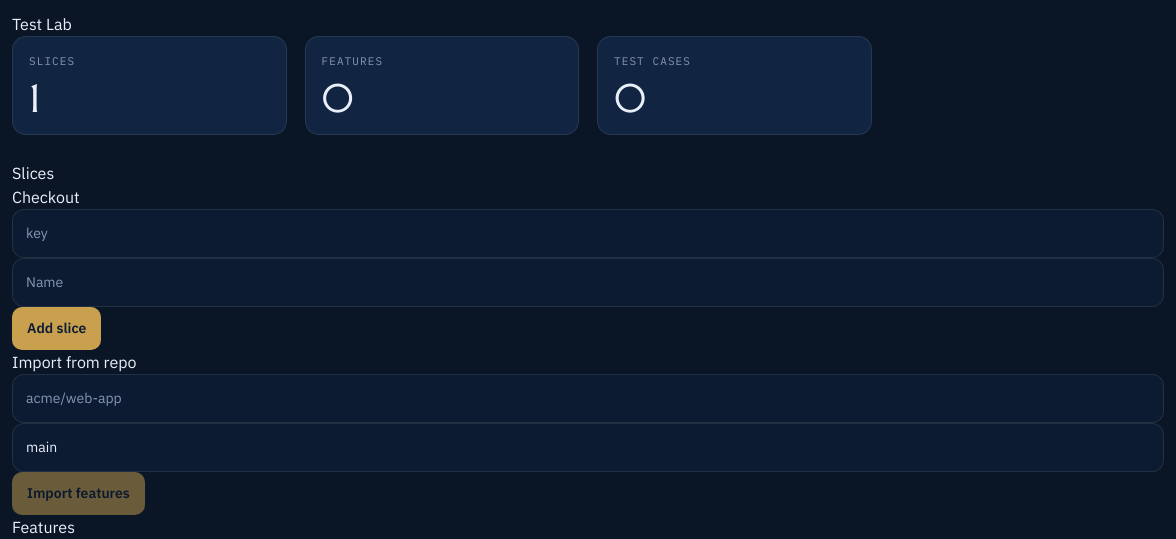
Scenario: TestLabScreen › adds a slice
Expected: the list item "Checkout" is shown, [12,186,80,206]
Type "regression" into the field named "Slice key".
click(588, 233); type("regression")  # box [12,208,1164,258]
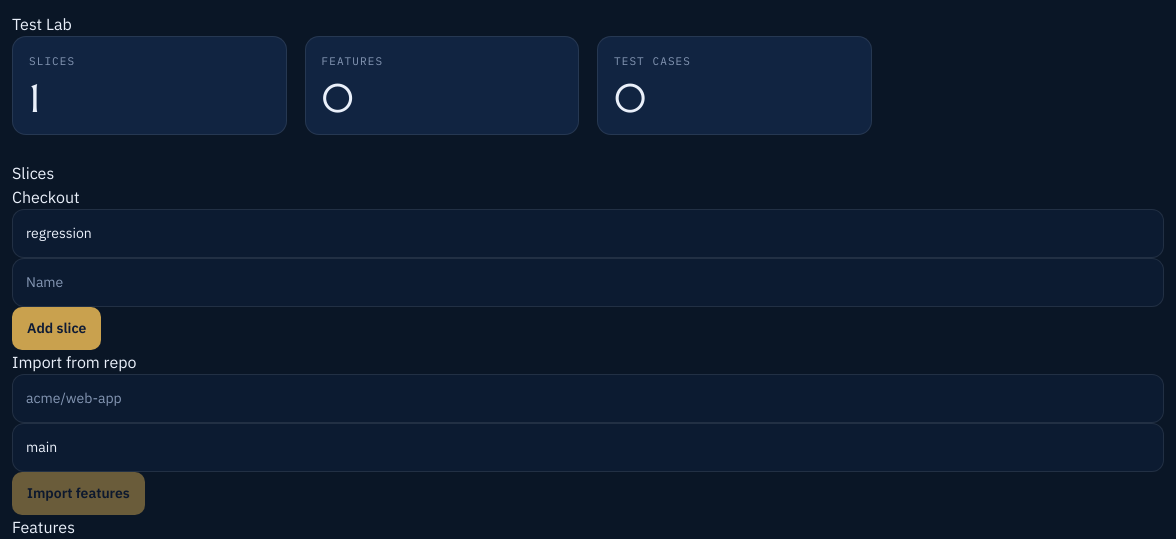
Type "Regression" into the field named "Slice name".
click(588, 282); type("Regression")  # box [12,258,1164,306]
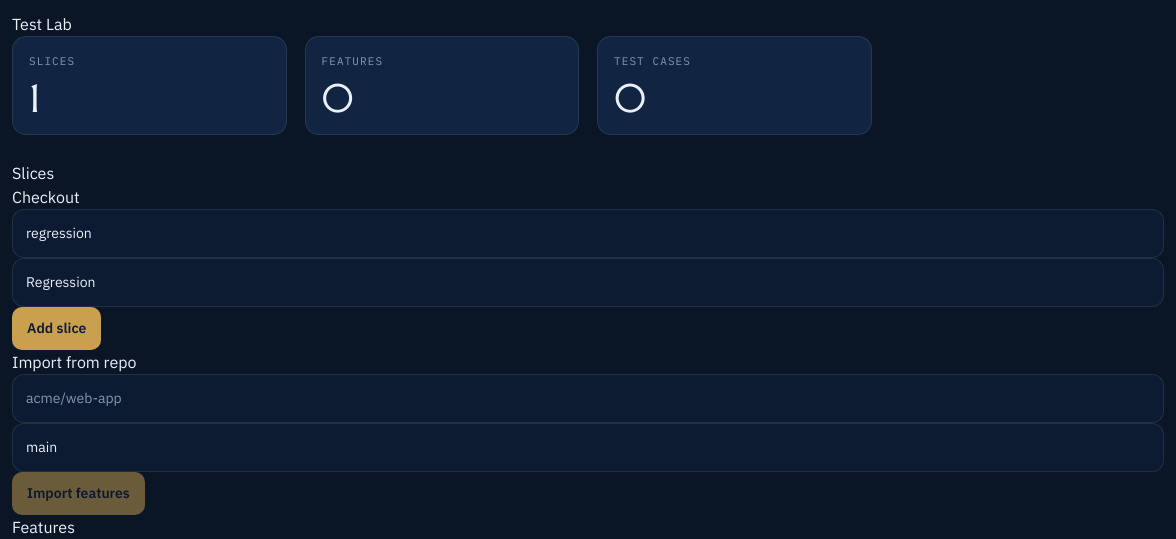
Click the button "Add slice".
click(57, 328)  # box [12,306,101,350]
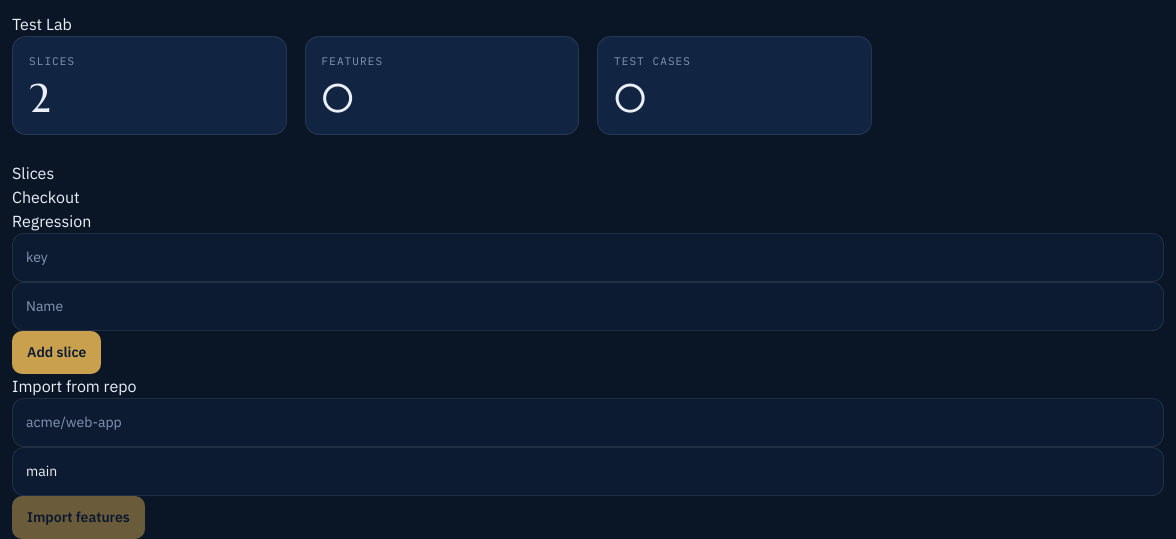
Result: the list item "Regression" is shown at [12,210,91,230]
